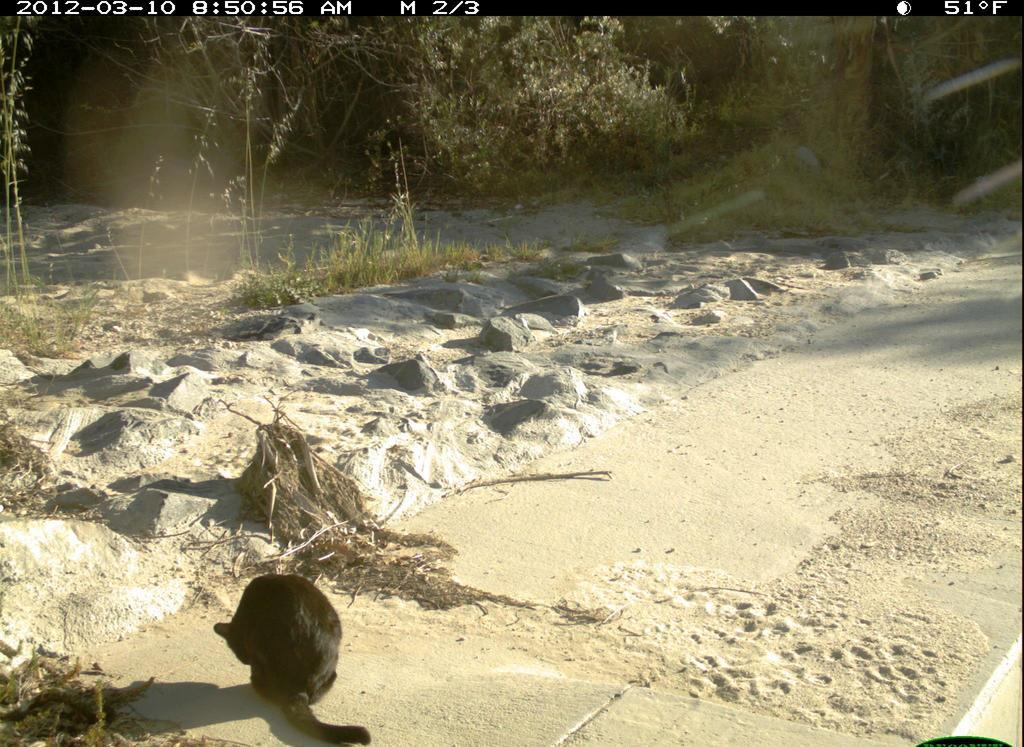cat: (209, 561, 382, 747)
